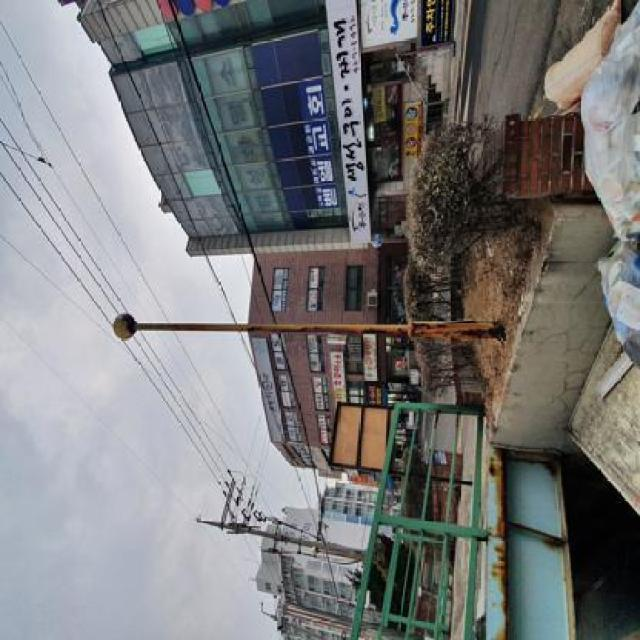fence: (377, 390, 492, 629)
pole: (100, 309, 511, 357)
